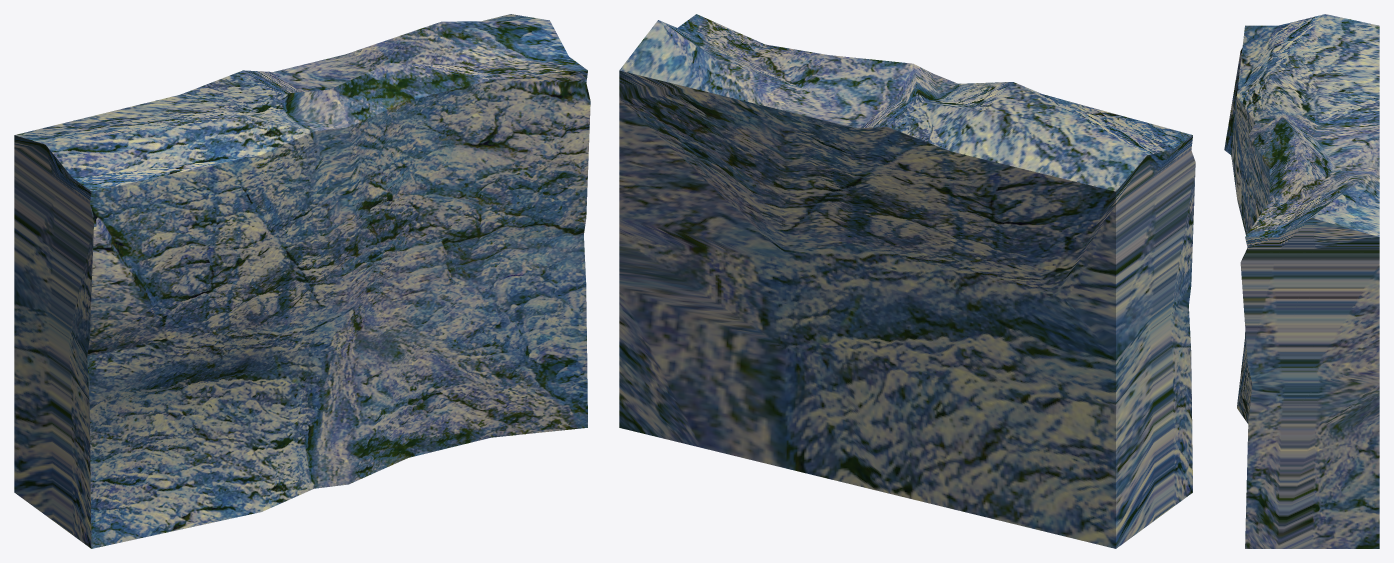
The model's file is rockWall_02.fbx.
3 renders of one model, left to right at view 1: azimuth 30°, elevation 25°; view 2: azimuth 150°, elevation 25°; view 3: azimuth 270°, elevation 25°, orthographic. The views are drawn at different scales.
Parts seen in each view (by area): view 1: pPlane8; view 2: pPlane8; view 3: pPlane8.
Part boxes in pixels (x1=…): pPlane8: x1=14, y1=14, x2=590, y2=548; pPlane8: x1=619, y1=14, x2=1195, y2=548; pPlane8: x1=1224, y1=14, x2=1379, y2=548.
Bounding box in the file's own units: 16 × 11.73 × 4.97.
